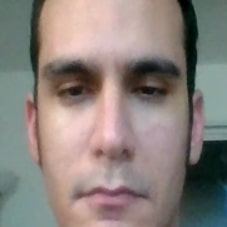drowsy: (42, 50, 185, 212)
